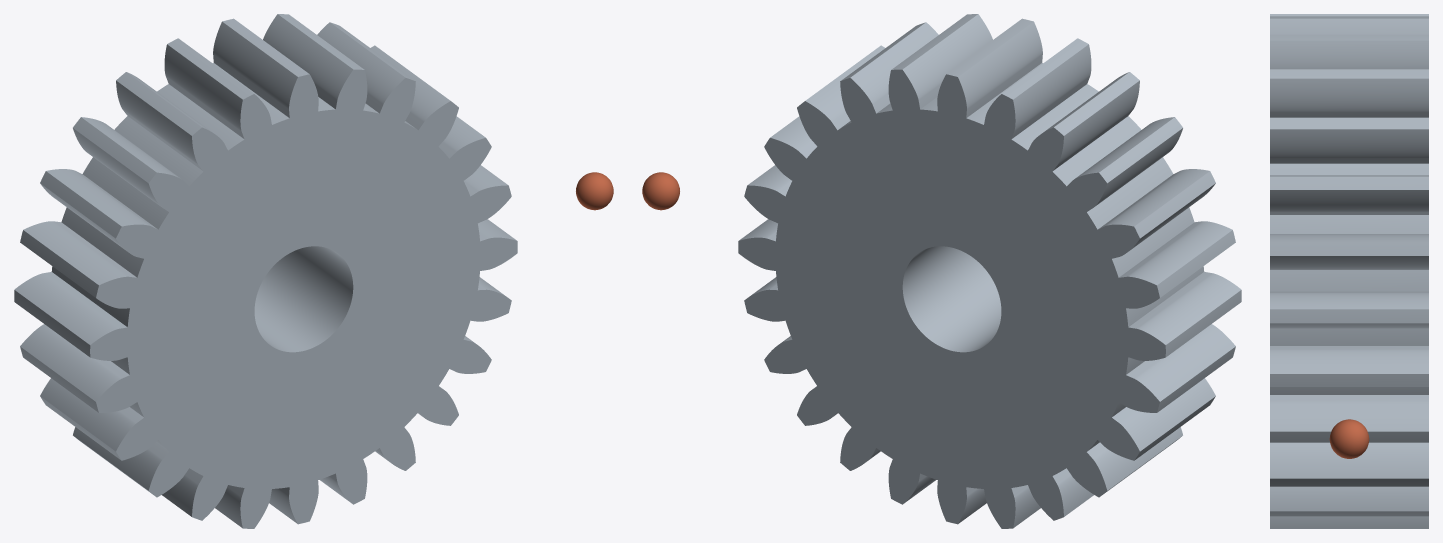
3 renders of one model, left to right at view 1: azimuth 30°, elevation 25°; view 2: azimuth 150°, elevation 25°; view 3: azimuth 270°, elevation 25°, orthographic. The views are drawn at different scales.
Parts seen in each view (by area): view 1: spur_gear, preserved_sphere; view 2: spur_gear, preserved_sphere; view 3: spur_gear, preserved_sphere.
Boxes of the visible parts, x1,y1,x2,y2 form: spur_gear: (14, 14, 517, 528); preserved_sphere: (576, 172, 613, 210); spur_gear: (738, 14, 1241, 528); preserved_sphere: (642, 172, 679, 210); spur_gear: (1270, 14, 1428, 528); preserved_sphere: (1329, 419, 1369, 458).
Size of the model in its own units: 0.068 by 0.052 by 0.016.
